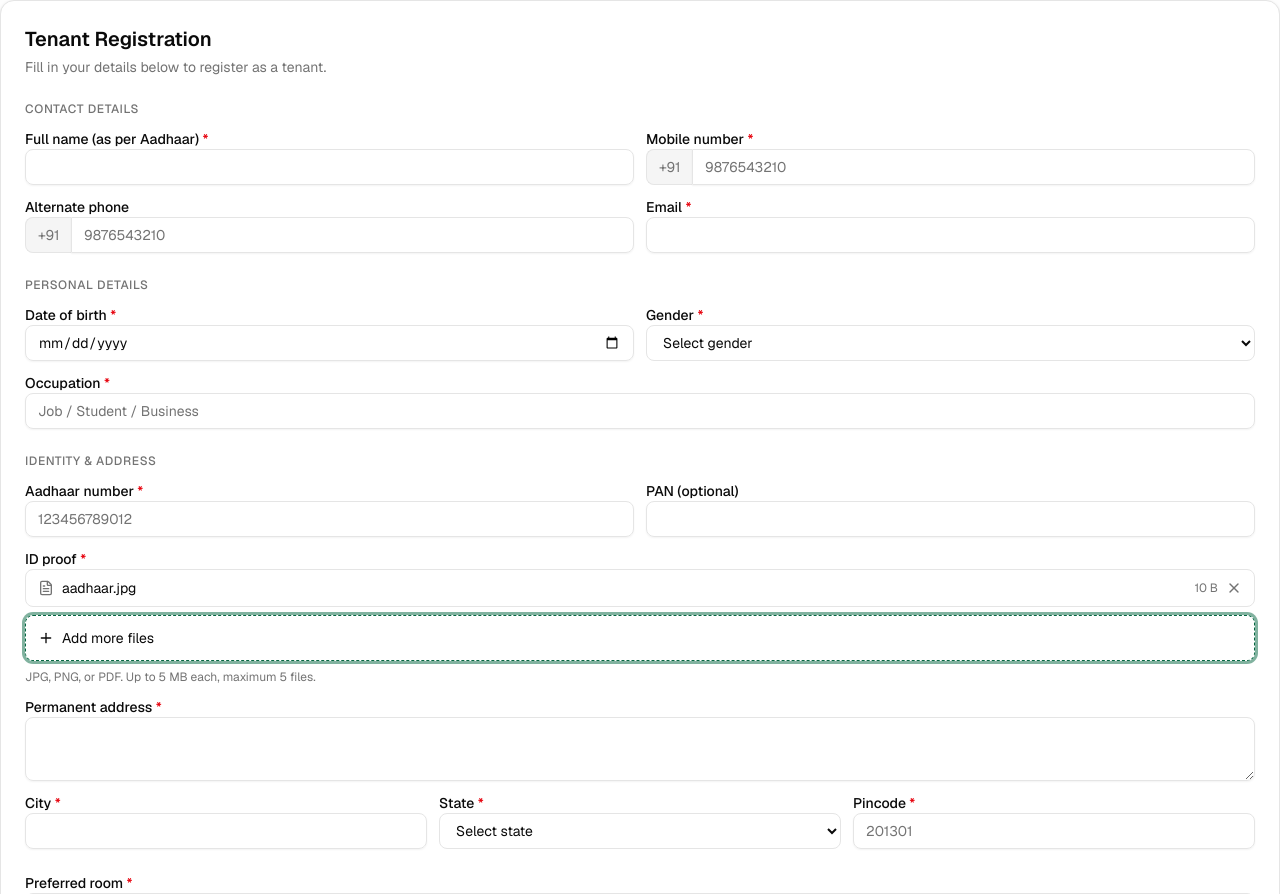
Test: OnboardTenantModal ID proof selection › uses a directly clickable native input and allows the same file after removal
Earlier steps of the test are not shown.
Later steps or results of the test are not shown.
Check: the text "aadhaar.jpg" is shown, box x1=62 y1=579 x2=136 y2=597
Check: the file field labelled "ID proof *" is empty, box x1=25 y1=550 x2=86 y2=568
Click the button named "Remove aadhaar.jpg" at (1234, 588), box x1=1226 y1=580 x2=1242 y2=596
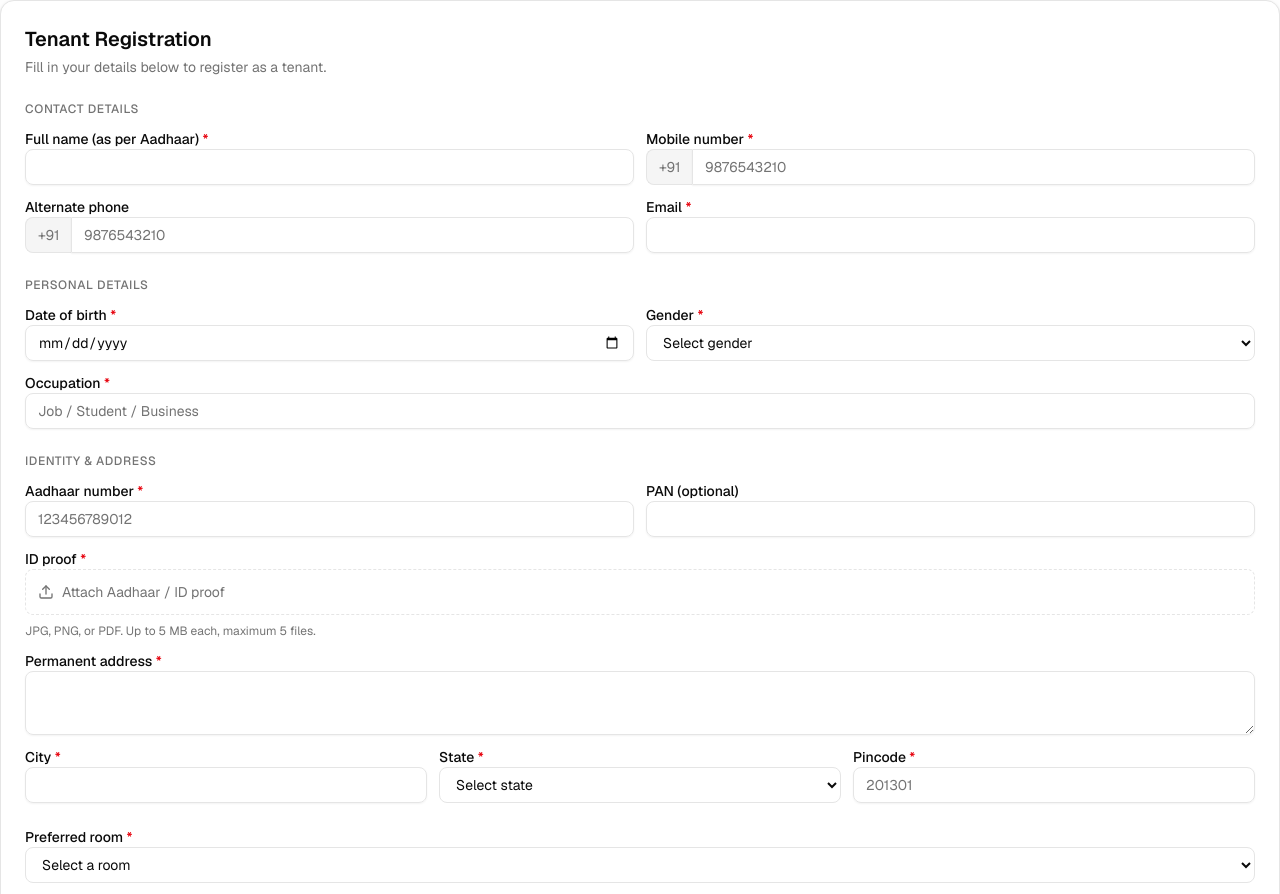
Check: the text "aadhaar.jpg" is gone
